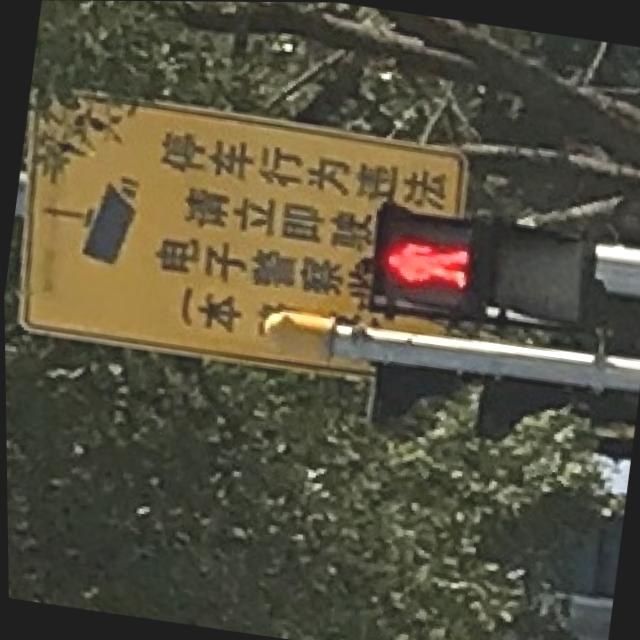red_light: (364, 214, 478, 317)
